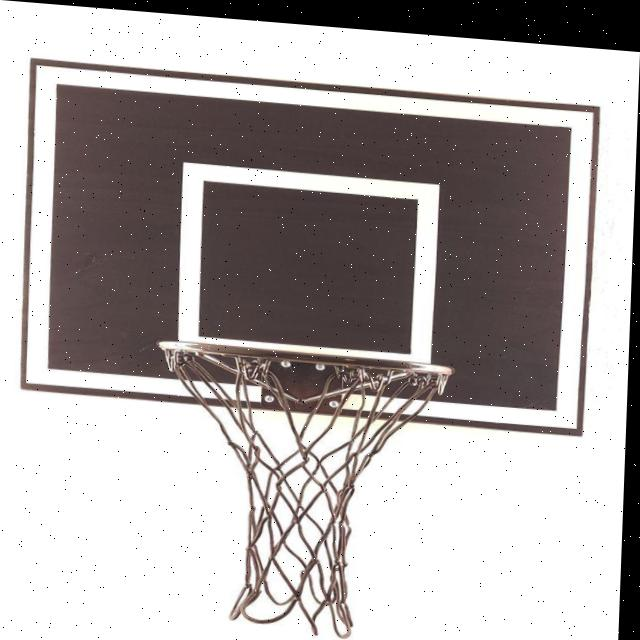hoop: (143, 317, 459, 640)
